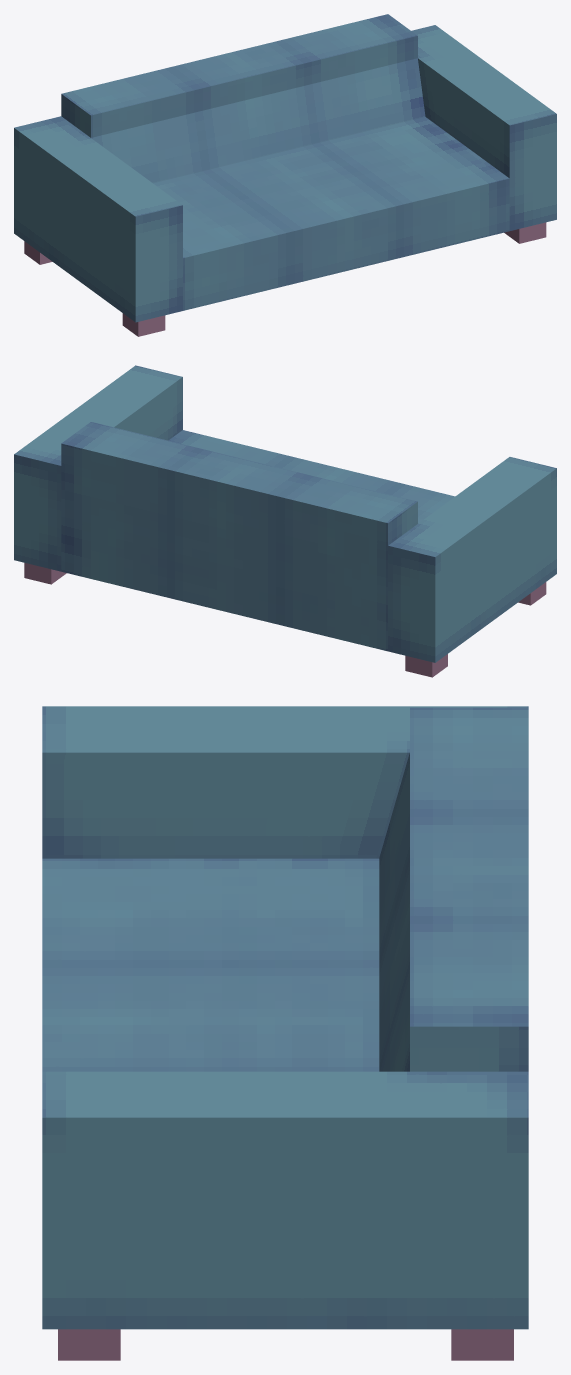
The model's file is Couch V1.fbx.
The picture shows the model from 3 angles, top to bottom: view 1: azimuth 30°, elevation 25°; view 2: azimuth 150°, elevation 25°; view 3: azimuth 270°, elevation 25°; orthographic projection. The views are drawn at different scales.
Parts seen in each view (by area): view 1: Cube; view 2: Cube; view 3: Cube.
Part boxes in pixels (x1,y1,x2,y2): Cube: (14,14,556,336); Cube: (14,365,556,677); Cube: (42,706,528,1360).
Size of the model in its own units: 8 by 4 by 2.67.
